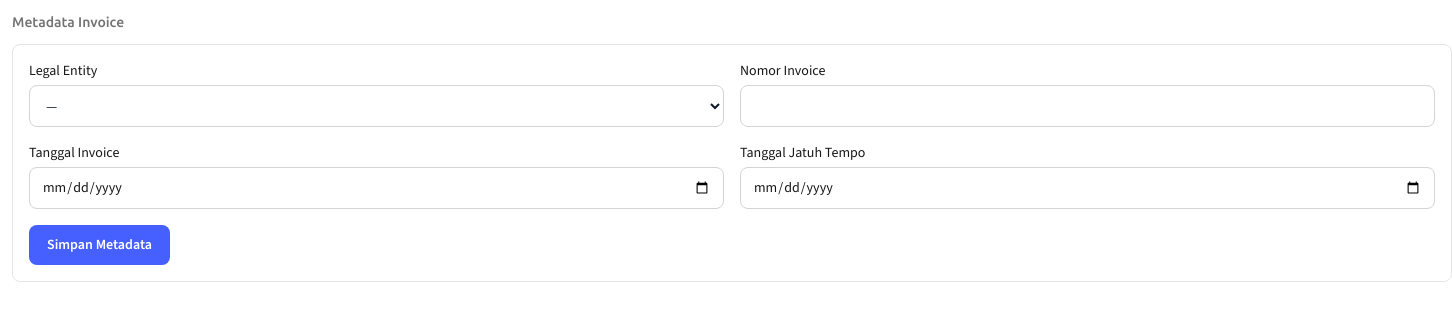
Scenario: MetadataSection › shows a field-level validation error returned by the action
Select "PT CONTOH TENANT" in the dropdown labelled "Legal Entity": (376, 106) [29,85,724,127]
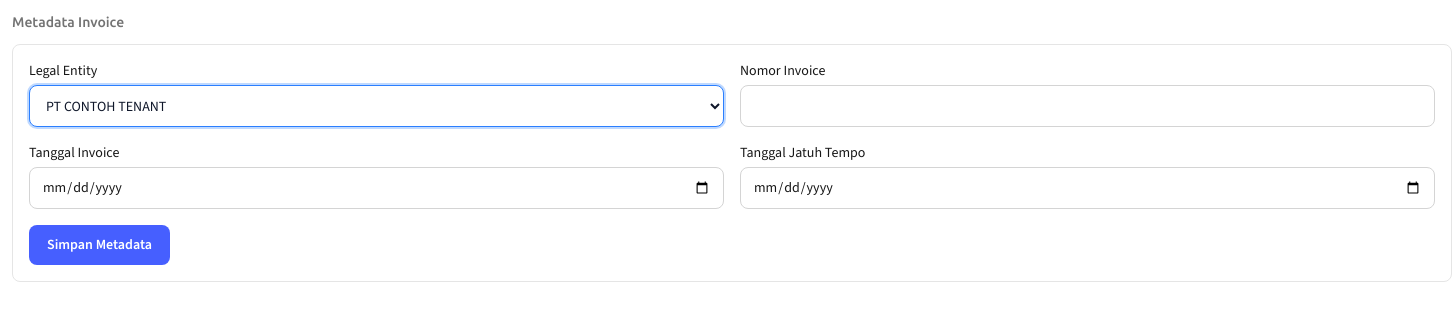
In the field labelled "Nomor Invoice": (1088, 106) [740,85,1435,127], type "INV-001"
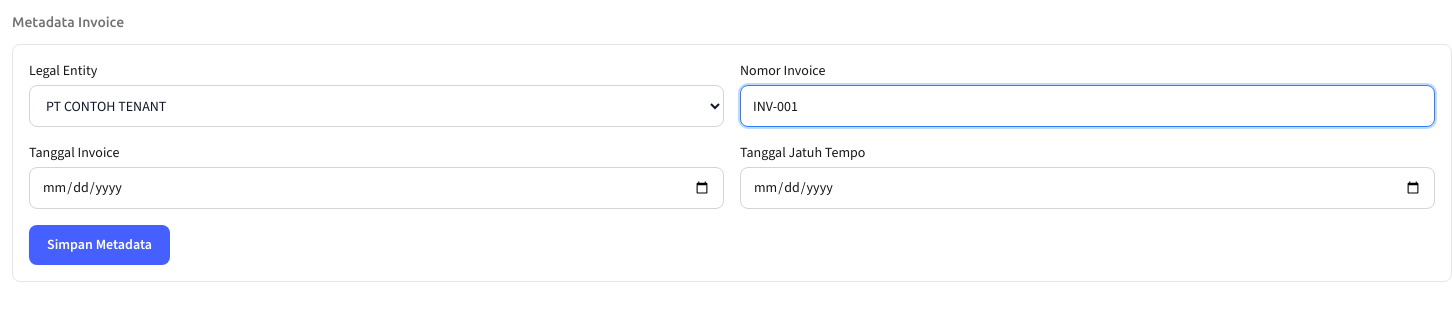
In the date field labelled "Tanggal Invoice": (376, 188) [29,167,724,209], type "2029-01-01"
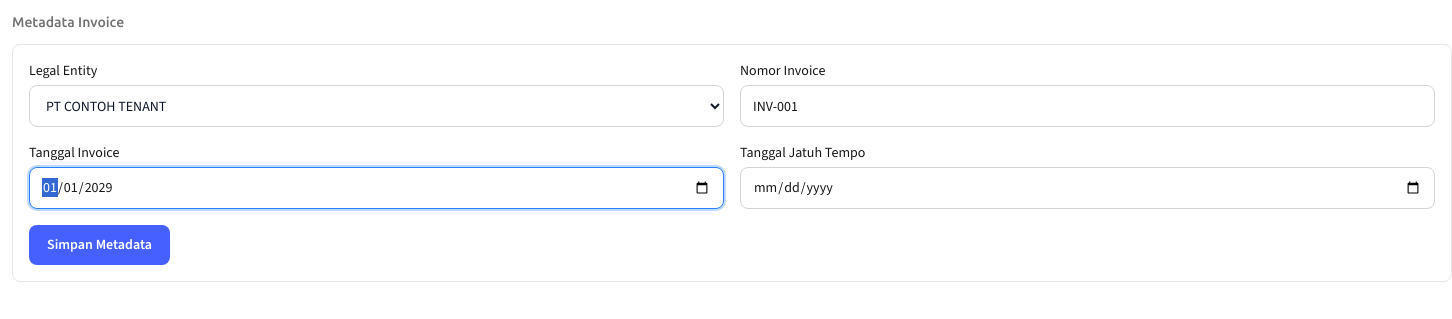
In the date field labelled "Tanggal Jatuh Tempo": (1088, 188) [740,167,1435,209], type "2028-12-31"
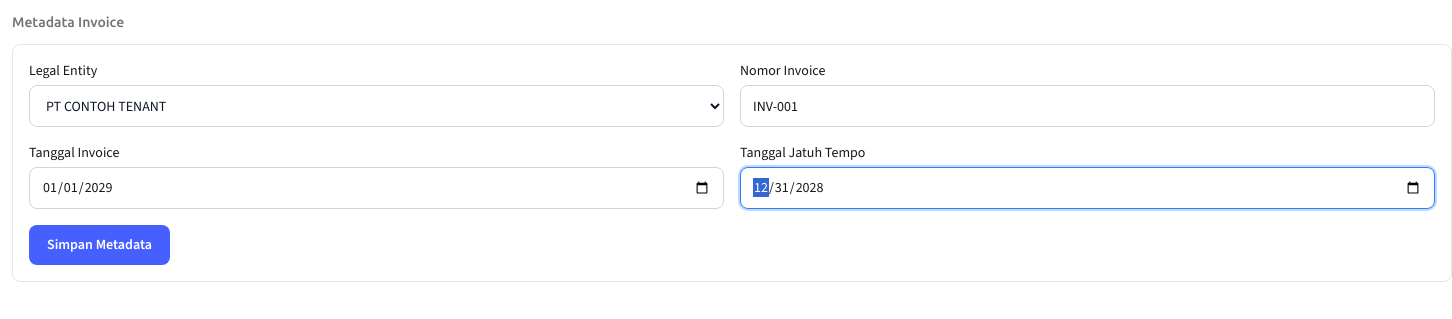
Click the button "Simpan Metadata": (100, 245) [29,225,170,265]
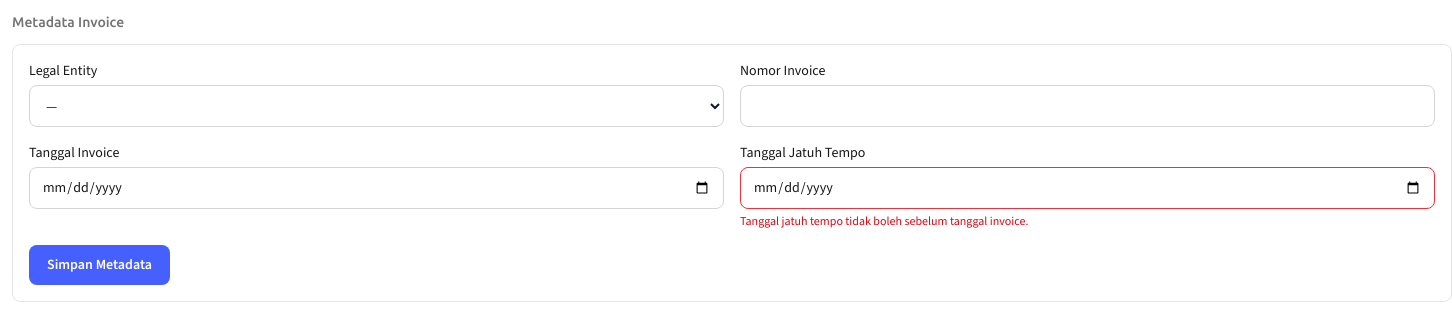
Expected: the text "Tanggal jatuh tempo tidak boleh sebelum tanggal invoice." is shown, [740,213,1028,229]
